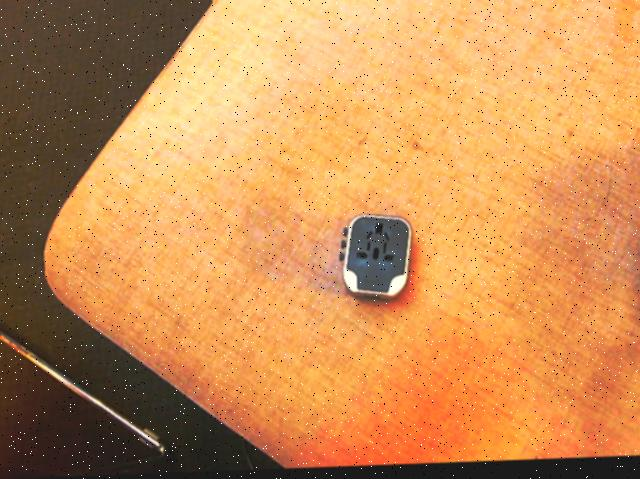adapter: (338, 215, 412, 304)
